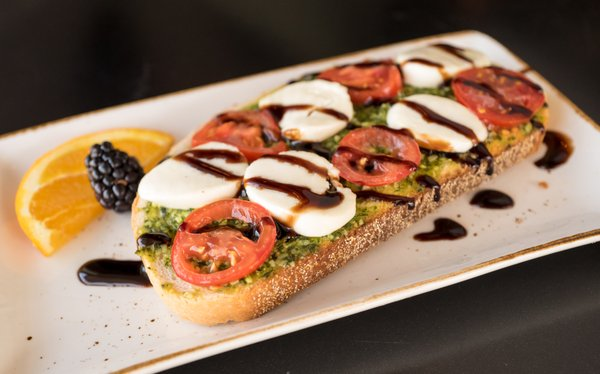salad: (77, 258, 151, 288)
soup: (127, 59, 538, 328)
taco: (12, 126, 175, 258)
